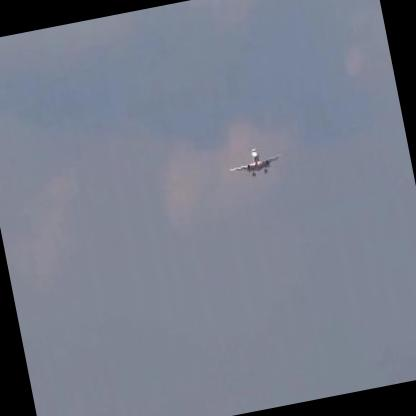plane: (224, 135, 293, 184)
